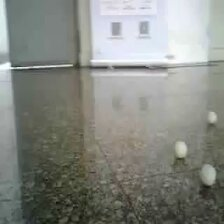w: (198, 163, 216, 186), (174, 140, 187, 158), (206, 111, 217, 123)
